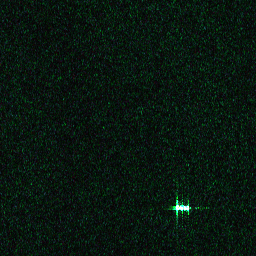ship: (172, 204, 191, 211)
